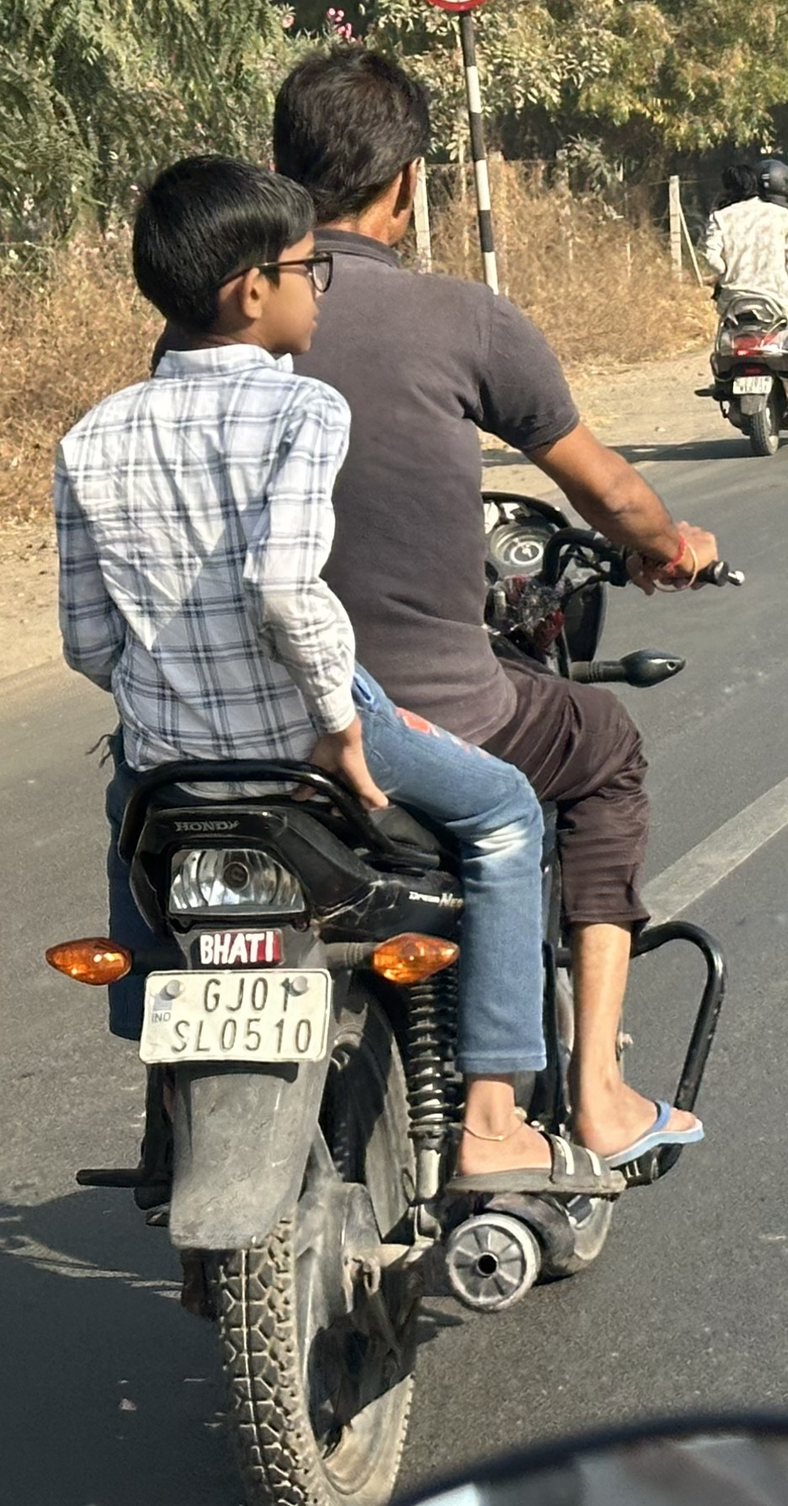BikeWithRider: (27, 32, 757, 1506), (681, 138, 788, 469)
NoHelmet: (112, 139, 345, 376), (251, 33, 451, 263)
